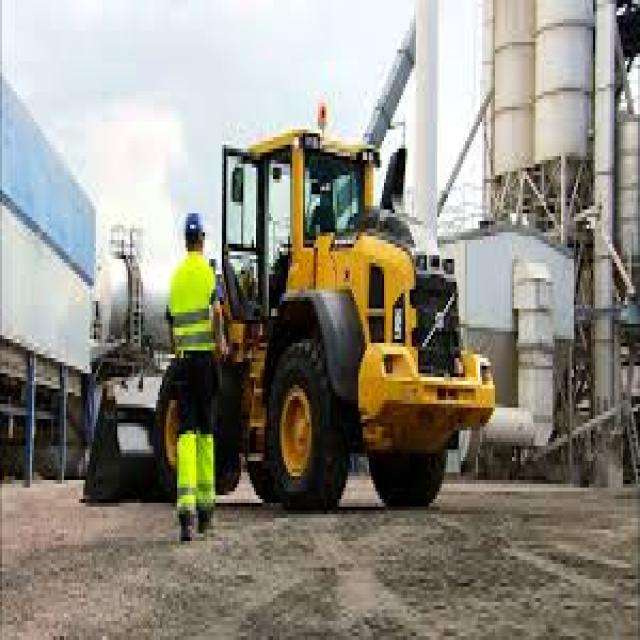buldozerpayloadergrader: (192, 114, 500, 508)
